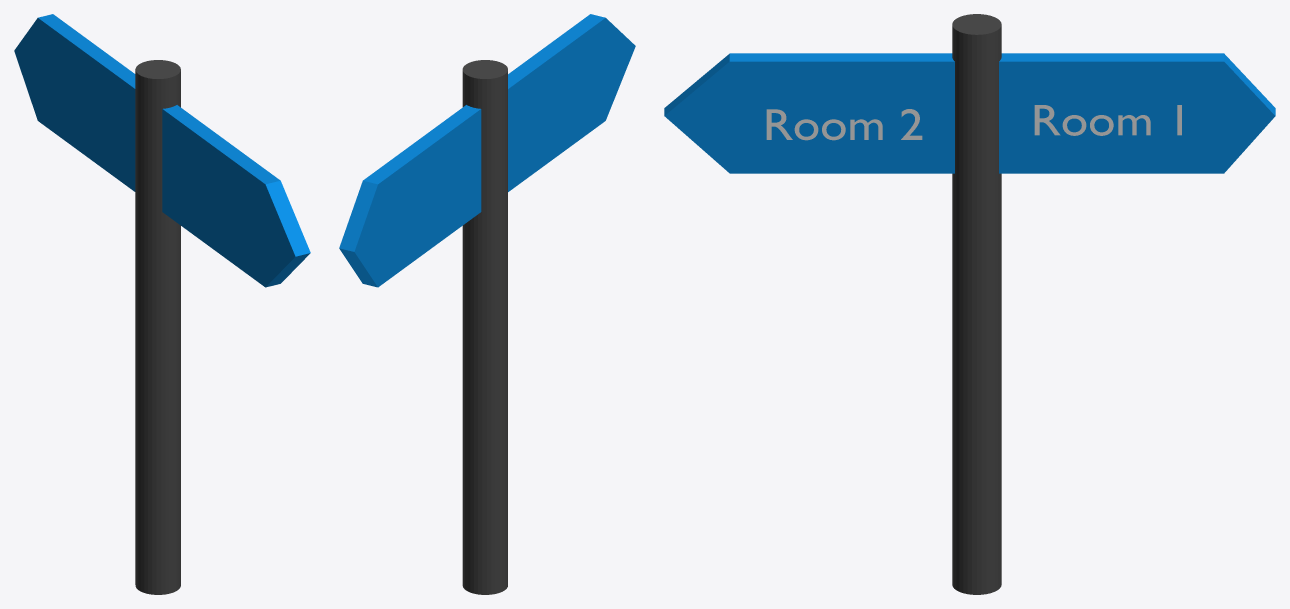
3 views of the same model, side by side, from view 1: azimuth 30°, elevation 25°; view 2: azimuth 150°, elevation 25°; view 3: azimuth 270°, elevation 25° (orthographic). The views are drawn at different scales.
Parts seen in each view (by area): view 1: Plane, Cylinder; view 2: Plane, Cylinder; view 3: Plane, Cylinder, Room 2, Room 1.
Part boxes in pixels (left/top/right/bottom): Plane: left=14, top=14, right=310, bottom=287; Cylinder: left=135, top=60, right=180, bottom=594; Plane: left=339, top=14, right=635, bottom=287; Cylinder: left=462, top=60, right=507, bottom=594; Plane: left=664, top=53, right=1275, bottom=173; Cylinder: left=952, top=14, right=1001, bottom=594; Room 2: left=766, top=109, right=922, bottom=140; Room 1: left=1034, top=105, right=1181, bottom=135.
Bounding box in the file's own units: 0.4 × 5 × 4.94.
